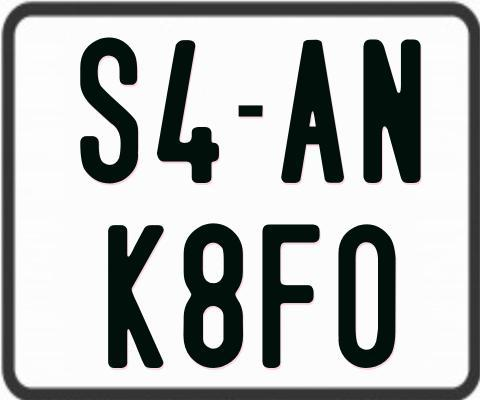0: (336, 224, 394, 374)
4: (156, 39, 220, 188)
8: (181, 221, 244, 372)
A: (280, 39, 349, 185)
F: (259, 223, 319, 372)
K: (105, 224, 163, 370)
N: (362, 39, 420, 183)
S: (79, 35, 141, 185)
